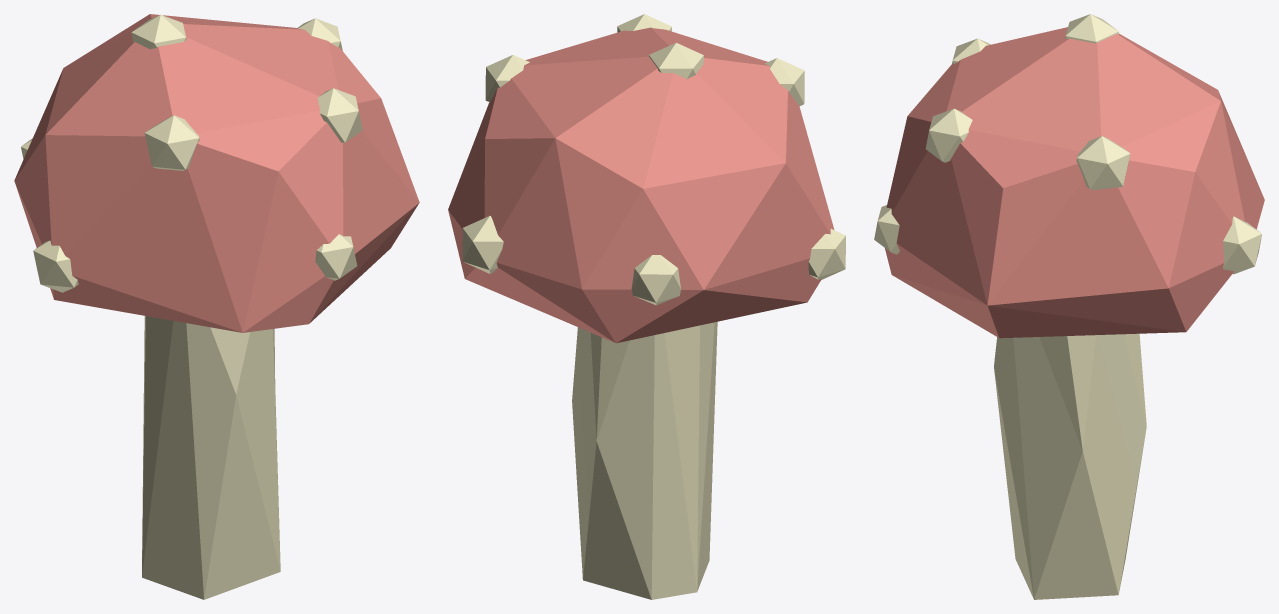
File: shroom1-3.fbx
The picture shows the model from 3 angles, left to right: view 1: azimuth 30°, elevation 25°; view 2: azimuth 150°, elevation 25°; view 3: azimuth 270°, elevation 25°; orthographic projection. The views are drawn at different scales.
Visible parts, largest first — view 1: Mushroom_01_LOD0; view 2: Mushroom_01_LOD0; view 3: Mushroom_01_LOD0.
Part boxes in pixels (x1,y1,x2,y2): Mushroom_01_LOD0: [14, 14, 419, 599]; Mushroom_01_LOD0: [448, 14, 845, 599]; Mushroom_01_LOD0: [874, 14, 1264, 599].
Size of the model in its own units: 22.52 by 34.07 by 22.22.
